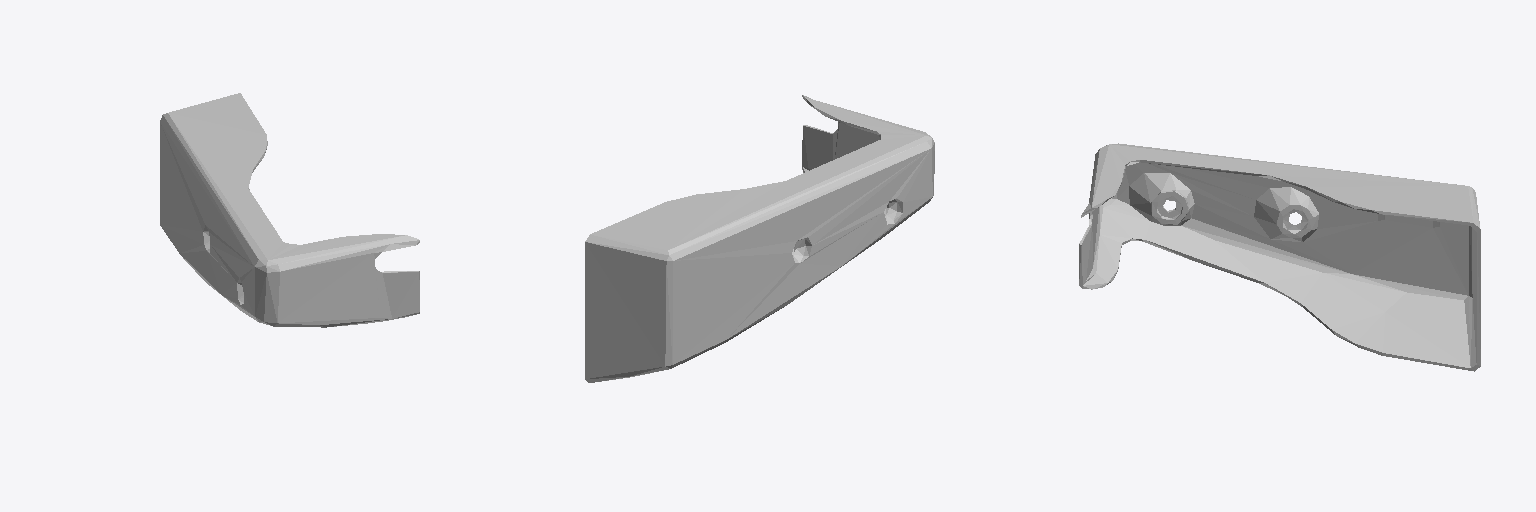
The model's file is left_rear_or.obj.
The picture shows the model from 3 angles: view 1: azimuth 30°, elevation 25°; view 2: azimuth 150°, elevation 25°; view 3: azimuth 270°, elevation 25°; orthographic projection.
Parts seen in each view (by area): view 1: Left_back_part; view 2: Left_back_part; view 3: Left_back_part.
Part boxes in pixels (x1,y1,x2,y2): Left_back_part: (160, 93, 419, 327); Left_back_part: (585, 95, 934, 382); Left_back_part: (1079, 143, 1480, 371).
Bounding box in the file's own units: 0.0959 × 0.0841 × 0.2015.